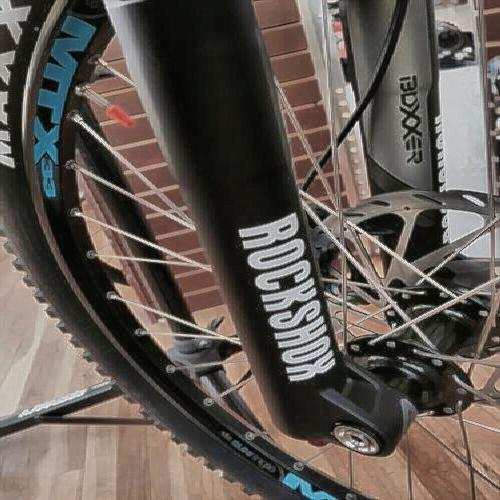bicycle: (36, 16, 478, 463)
